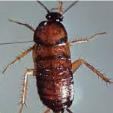cockroach: (29, 7, 79, 111)
